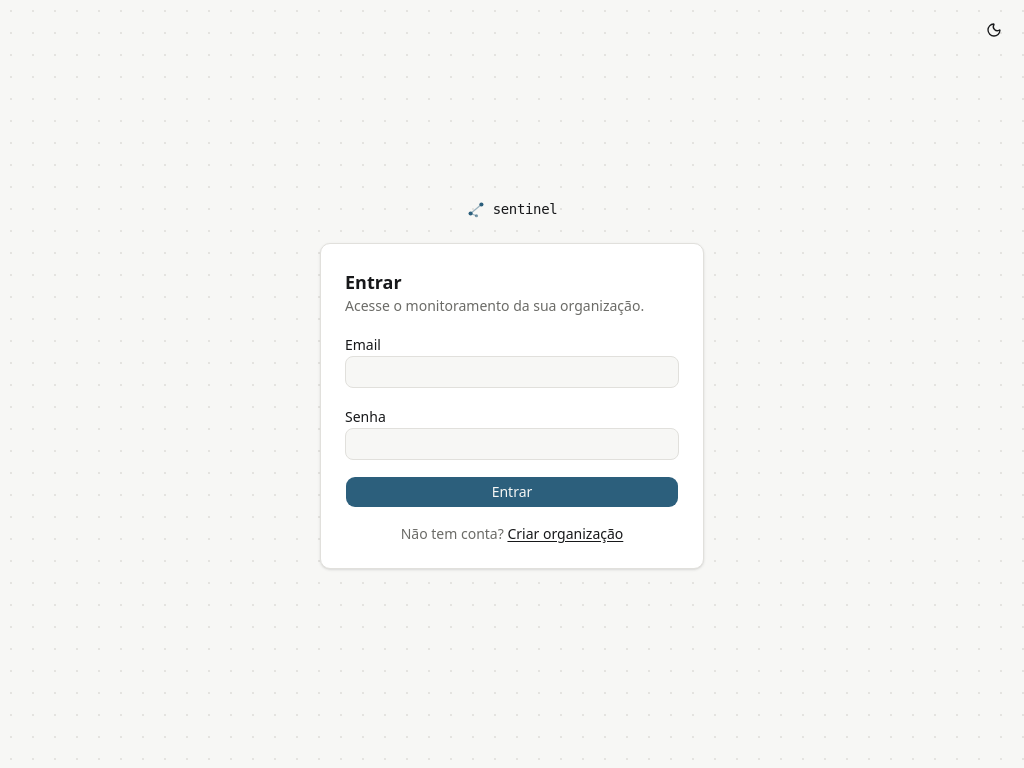
Test case: LoginPage › mostra a mensagem de erro da API quando o login falha
Type "ana@example.com" into the field labelled "Email" at (512, 372), box x1=345 y1=356 x2=679 y2=388
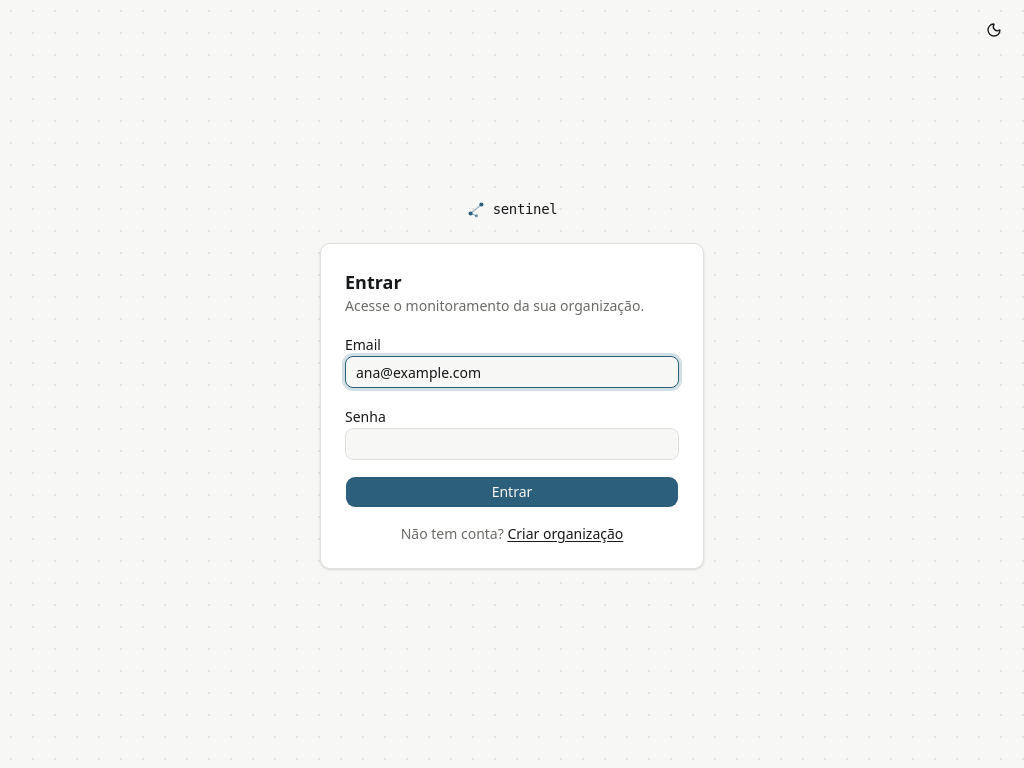
Type "senha-errada" into the password field labelled "Senha" at (512, 444), box x1=345 y1=428 x2=679 y2=460
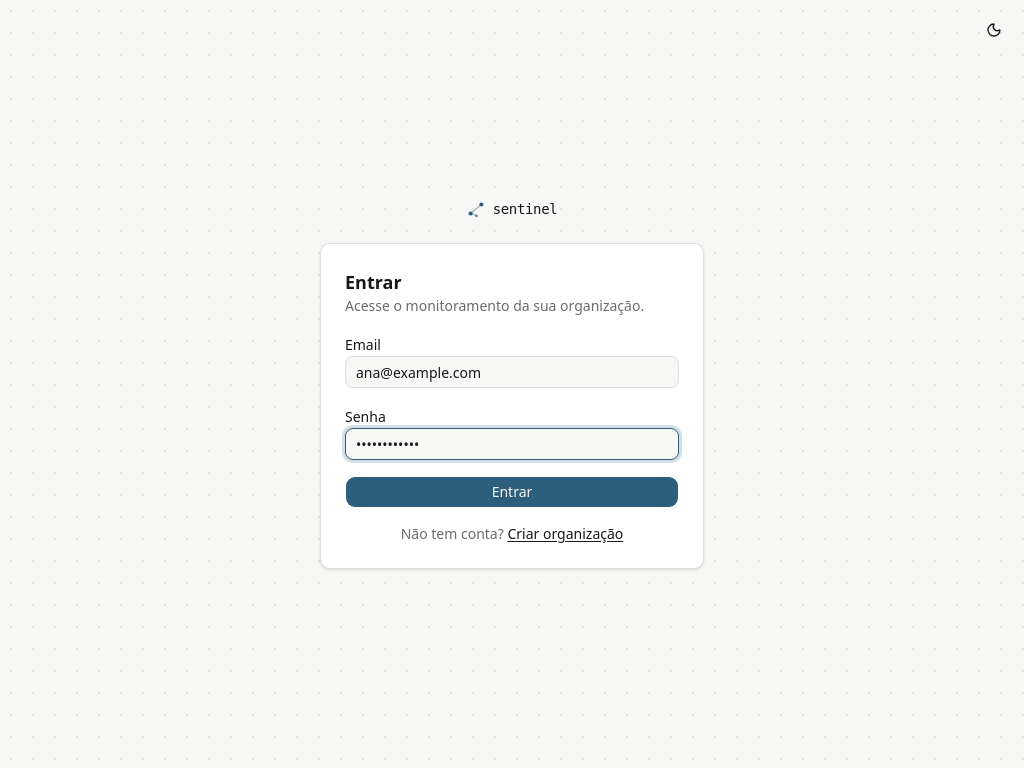
Click the button "Entrar" at (512, 492), box x1=345 y1=476 x2=679 y2=508
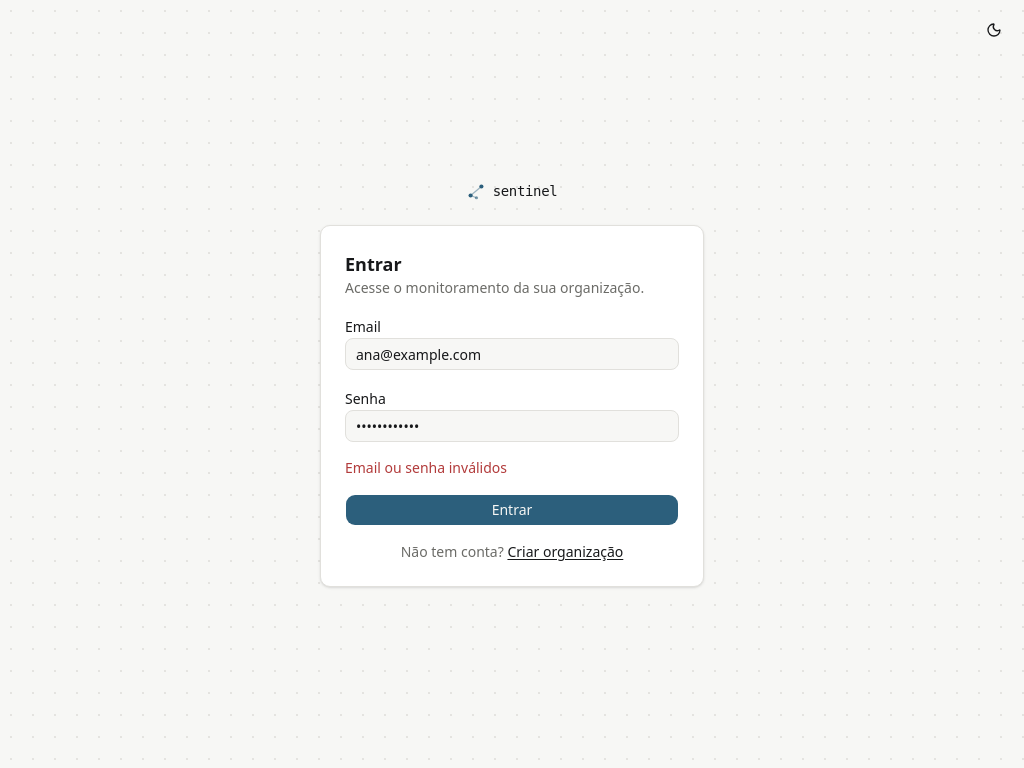
Expected: the text "Email ou senha inválidos" is shown, x1=345 y1=458 x2=507 y2=477
